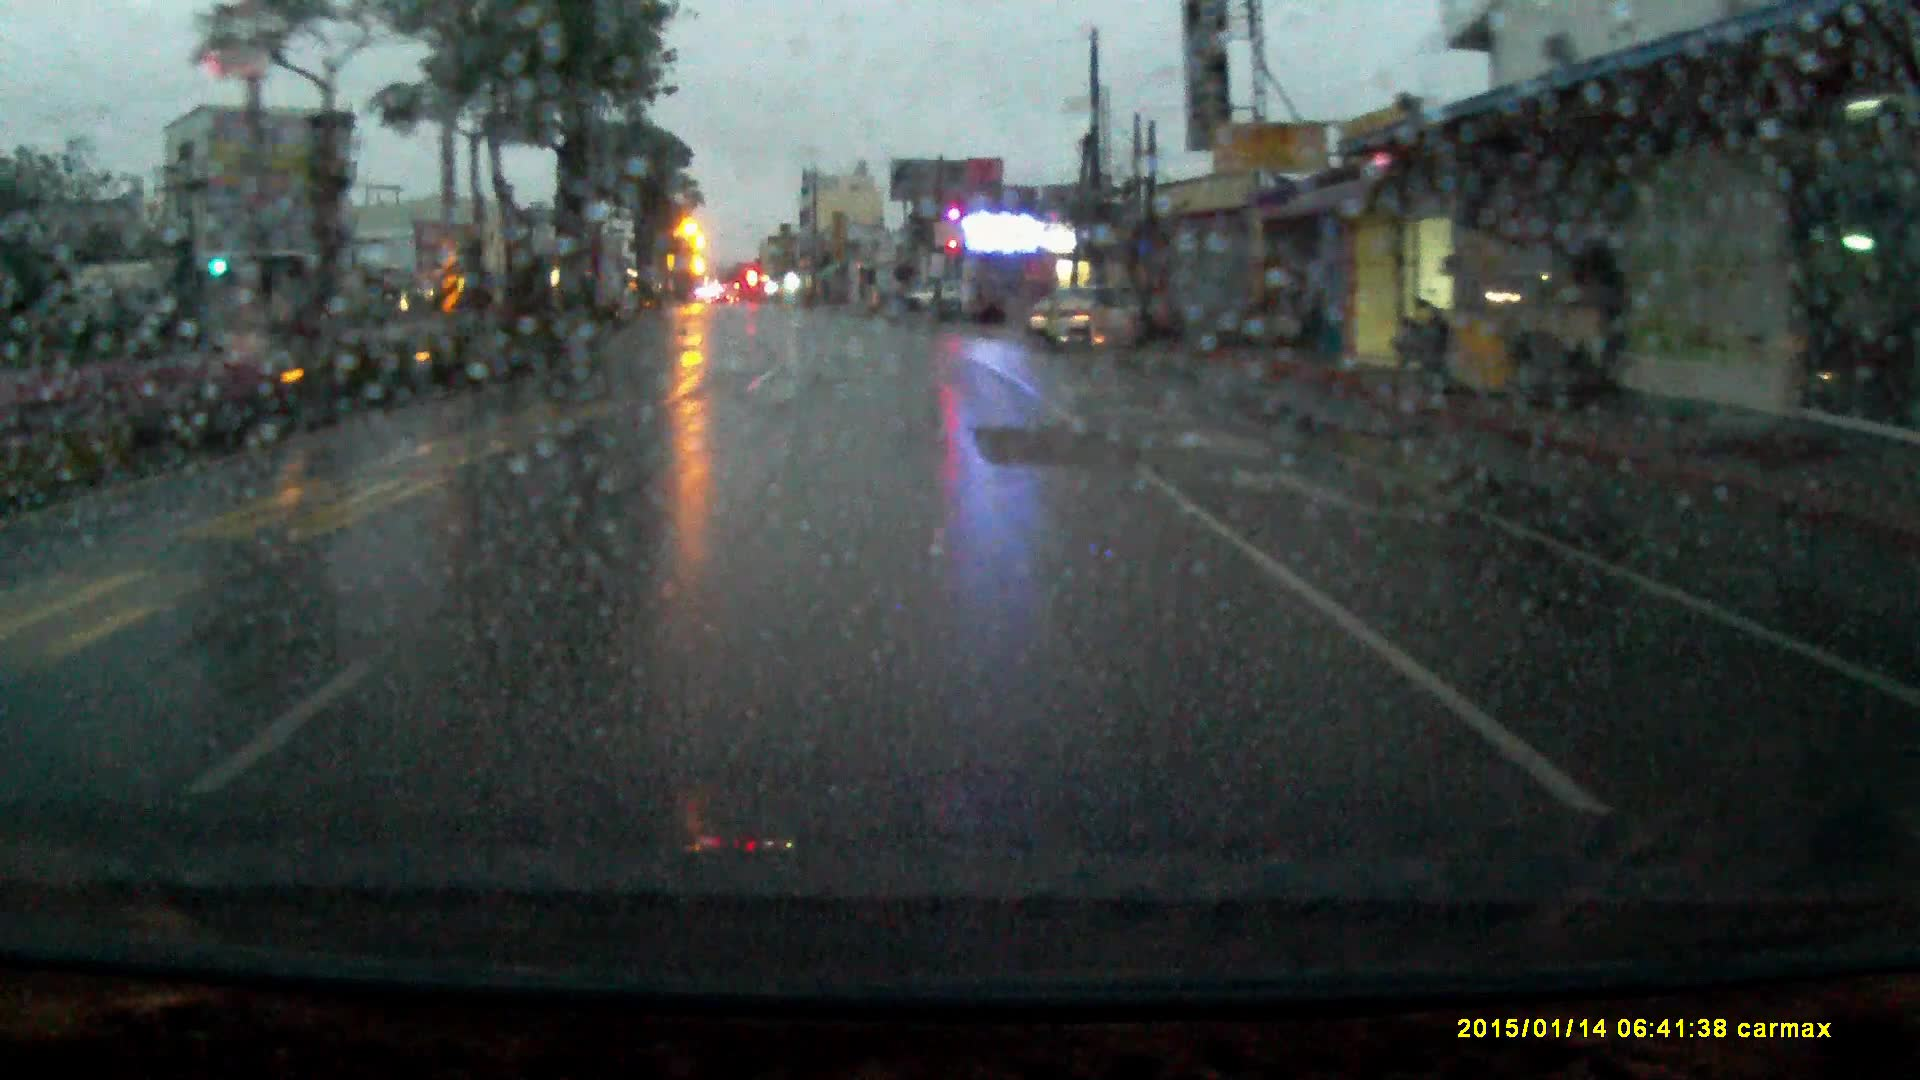vehicle: (1029, 280, 1145, 357), (907, 278, 963, 311)
